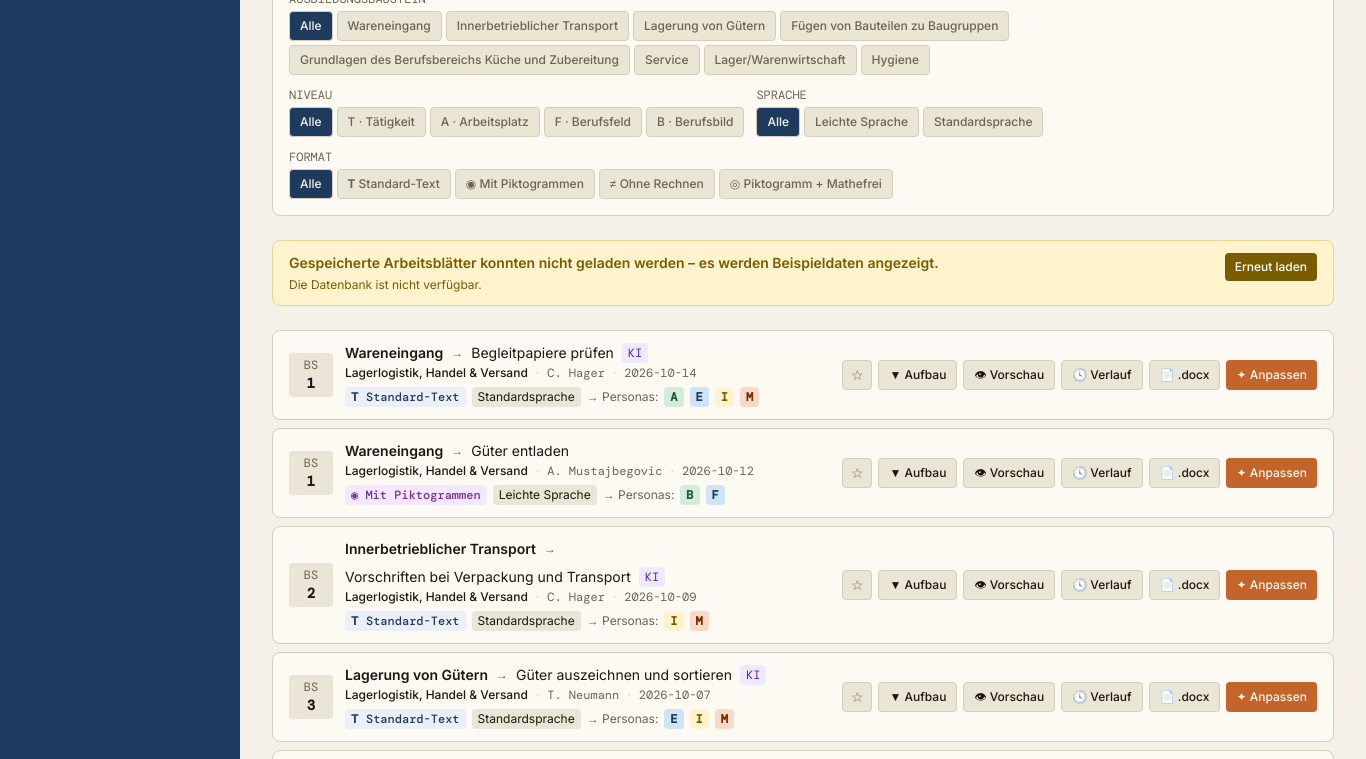
it: Arbeitsblätter › markiert Favoriten und filtert auf "Nur Favoriten"
The image size is (1366, 759).
(page scrolled)
Expected: the element "Begleitpapiere prüfen" is shown, x1=272 y1=330 x2=1334 y2=420
Step 1. Click the button named "Als Favorit markieren" → click(857, 375), box x1=842 y1=360 x2=872 y2=390
(page scrolled)
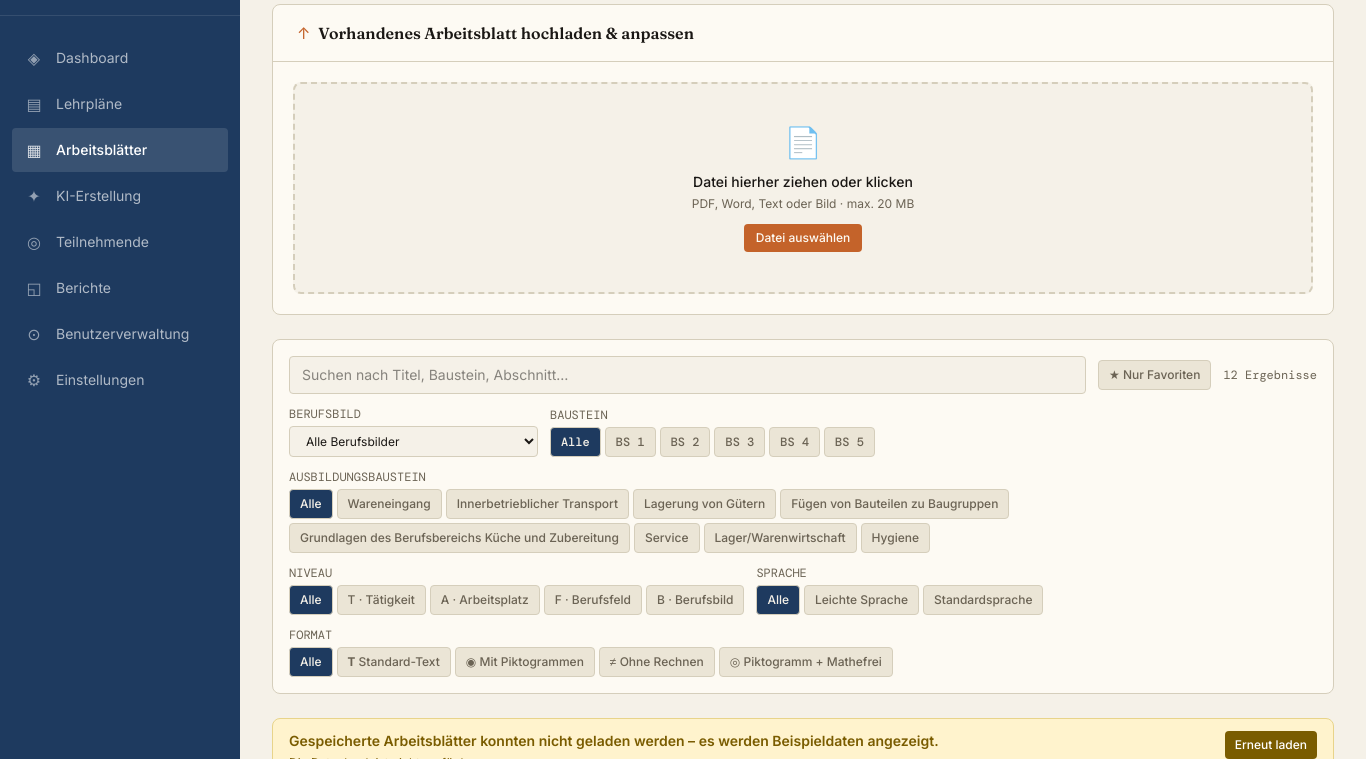
Step 2. Click the button "★ Nur Favoriten" → click(1155, 375), box x1=1098 y1=360 x2=1211 y2=390
(page scrolled)
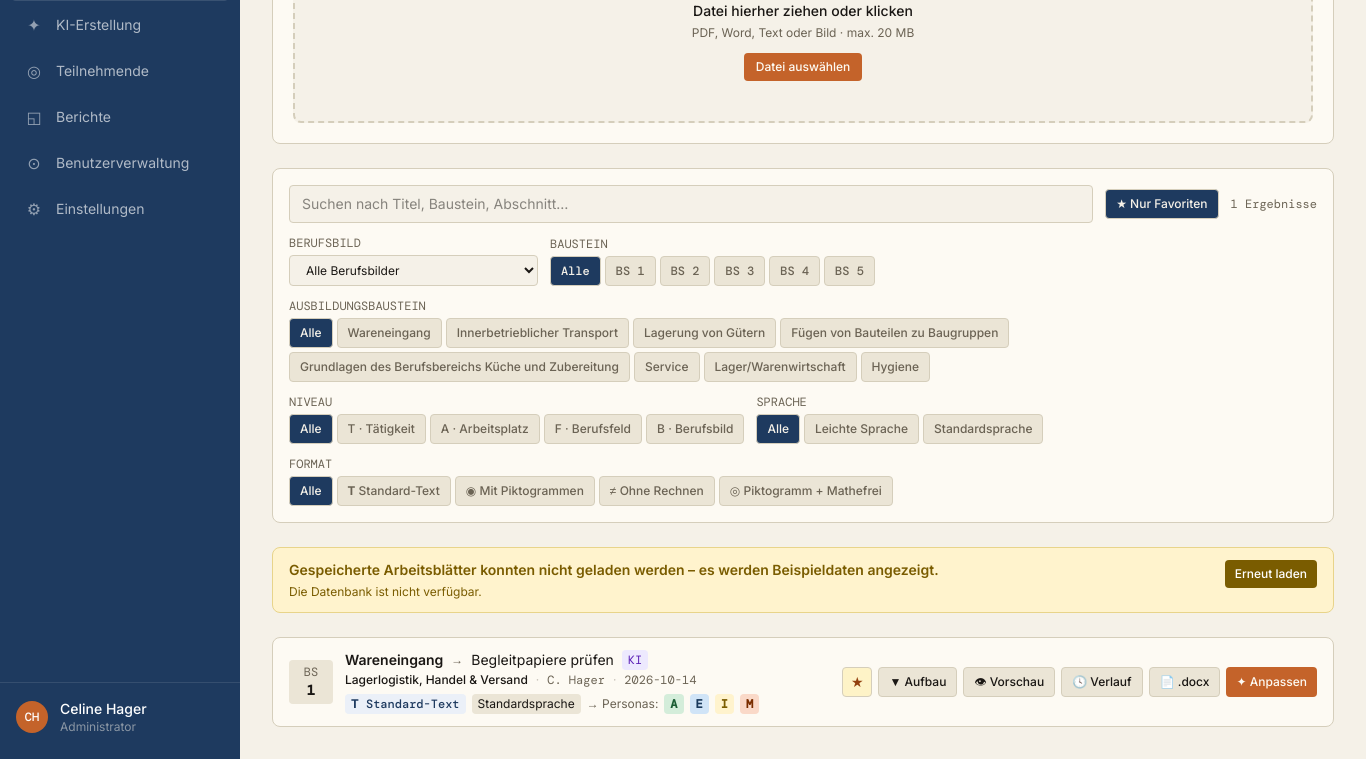
Expected: the element "Begleitpapiere prüfen" is shown, x1=272 y1=637 x2=1334 y2=727
Now the text "1 Ergebnisse" is shown, box x1=1231 y1=196 x2=1317 y2=212
